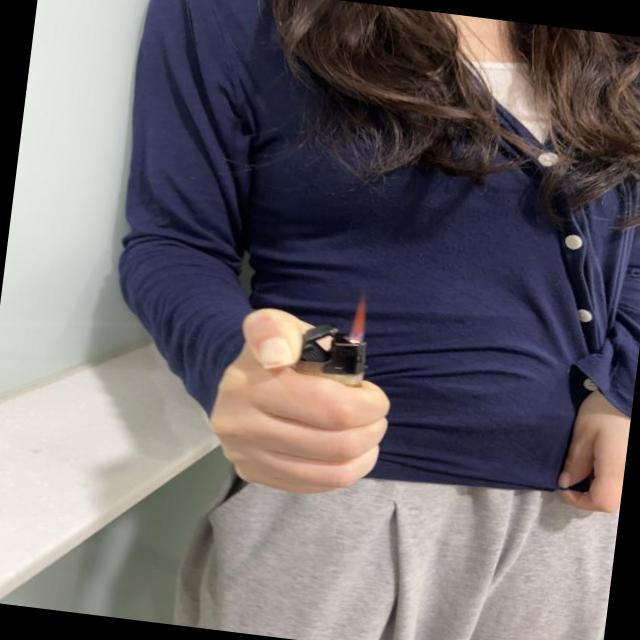Fire: (349, 288, 374, 344)
